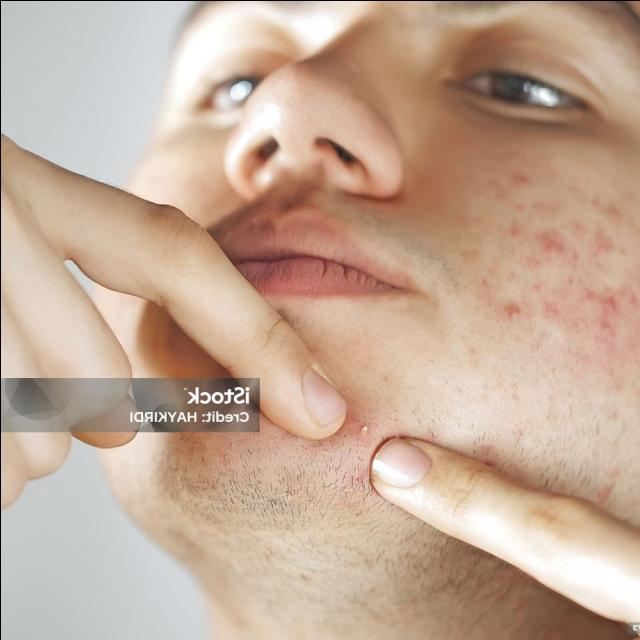papule: (536, 244, 640, 343), (527, 178, 632, 219), (489, 298, 528, 331), (587, 220, 616, 263), (534, 221, 566, 259), (505, 167, 545, 193), (501, 214, 530, 246), (564, 217, 588, 243), (520, 252, 544, 270), (525, 279, 545, 296)
pustule: (353, 414, 372, 435)
